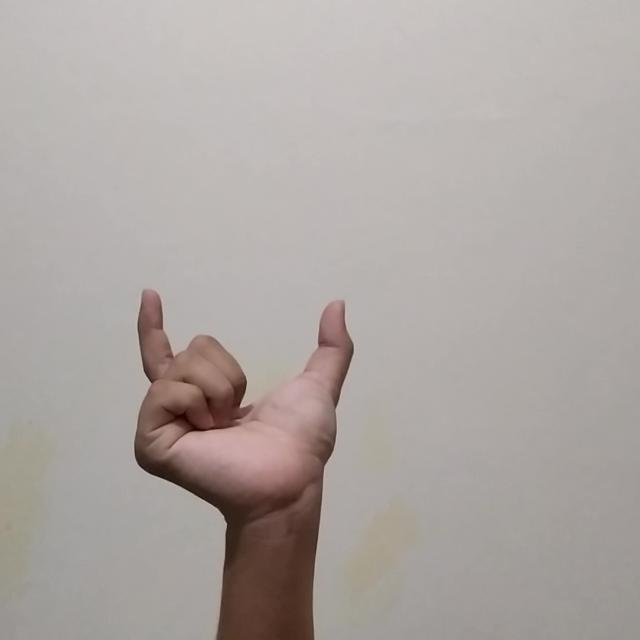U: (116, 258, 377, 524)
